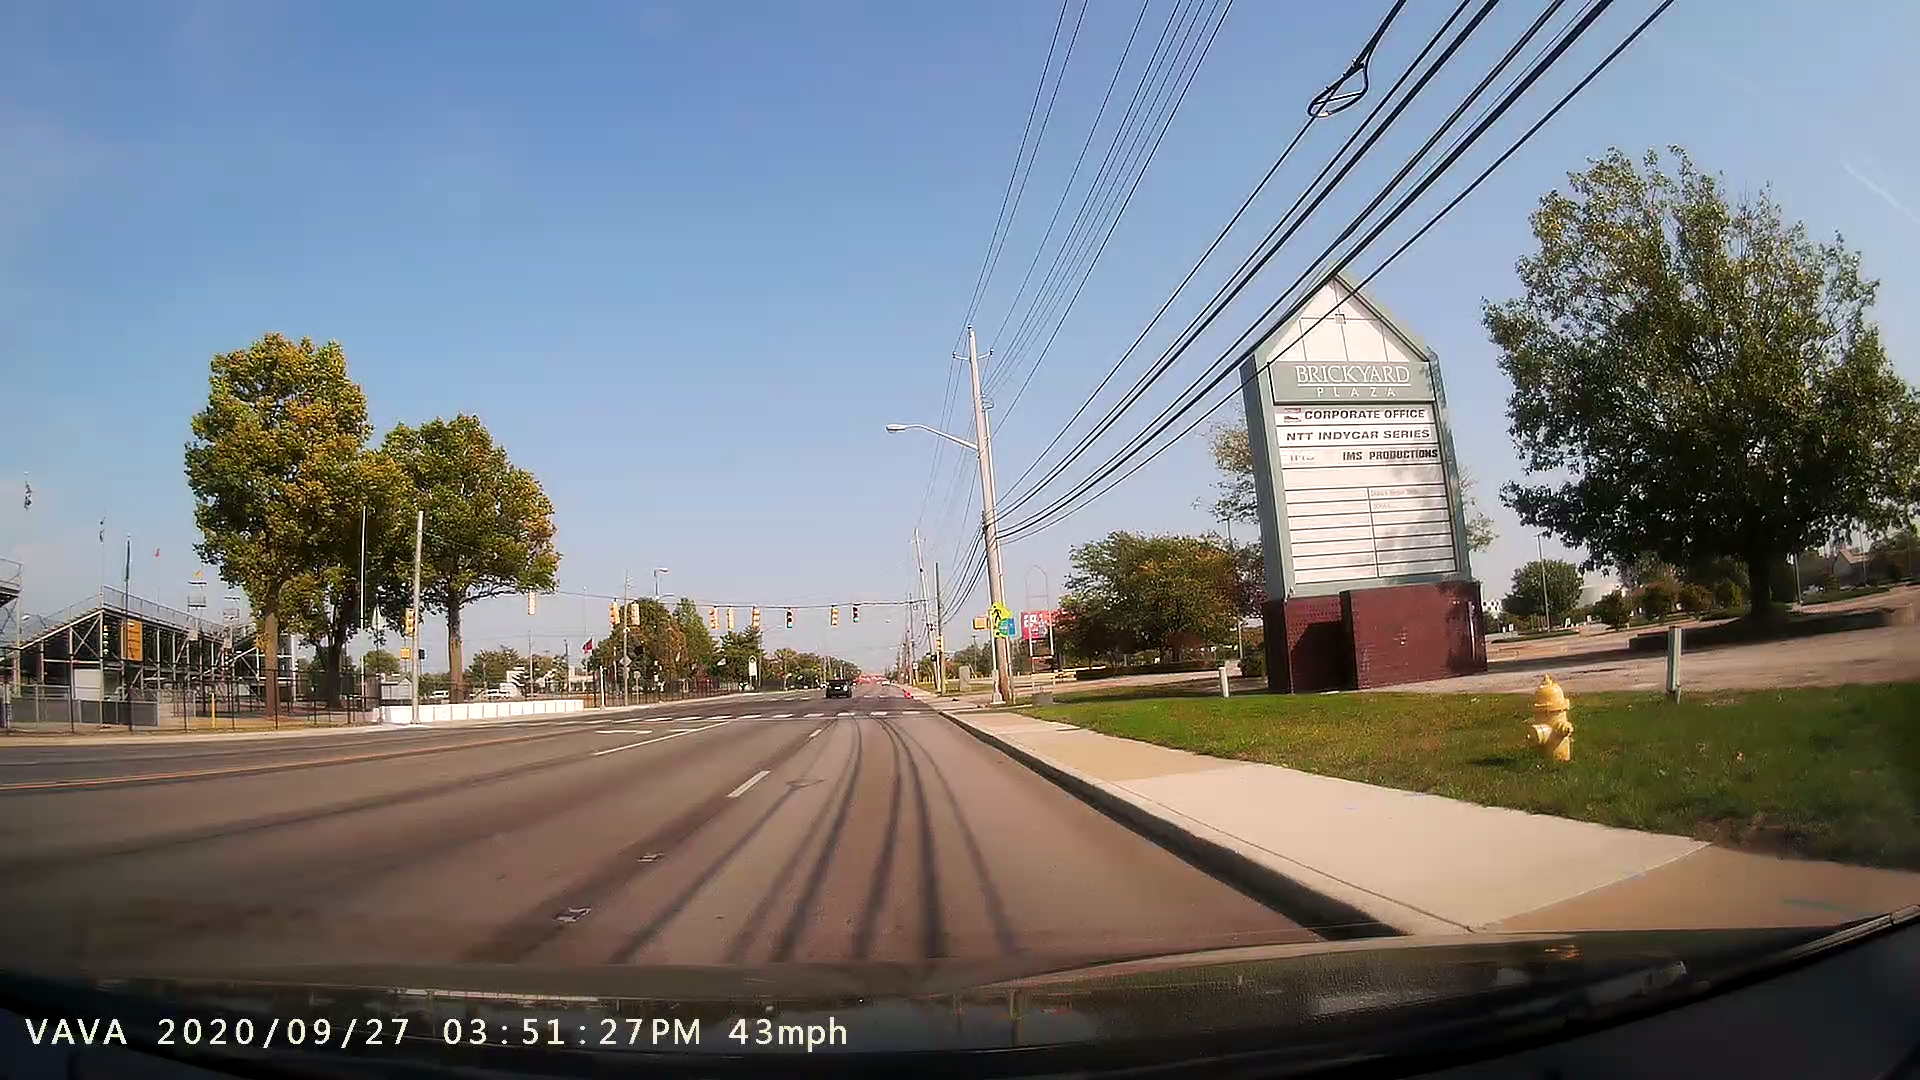fire_hydrant: (1519, 666, 1582, 786)
